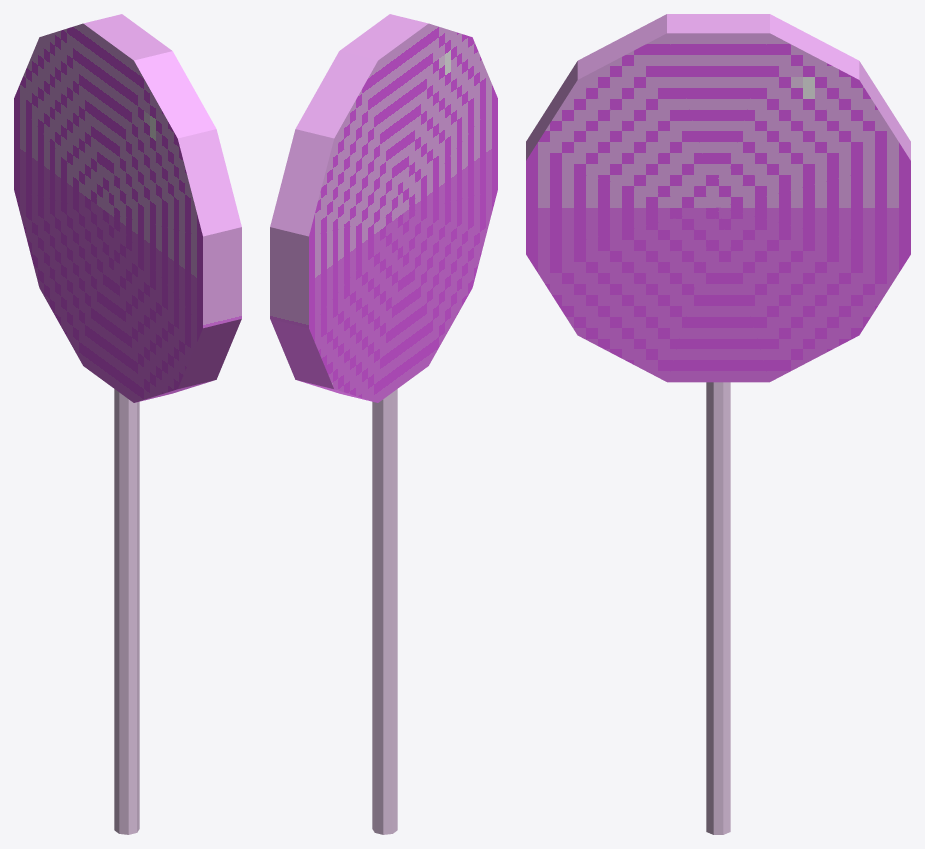
The model's file is Swirly Lolipop Trees (Purple).gltf.
3 renders of one model, left to right at view 1: azimuth 30°, elevation 25°; view 2: azimuth 150°, elevation 25°; view 3: azimuth 270°, elevation 25°, orthographic.
Visible parts, largest first — view 1: cylinder (×2); view 2: cylinder (×2); view 3: cylinder (×2).
Part boxes in pixels (left/top/right/bottom): cylinder (×2): left=14, top=14, right=241, bottom=834; cylinder (×2): left=270, top=14, right=497, bottom=834; cylinder (×2): left=526, top=14, right=910, bottom=834.
Size of the model in its own units: 0.1187 by 2.31 by 1.
2 materials, 2 textured.
